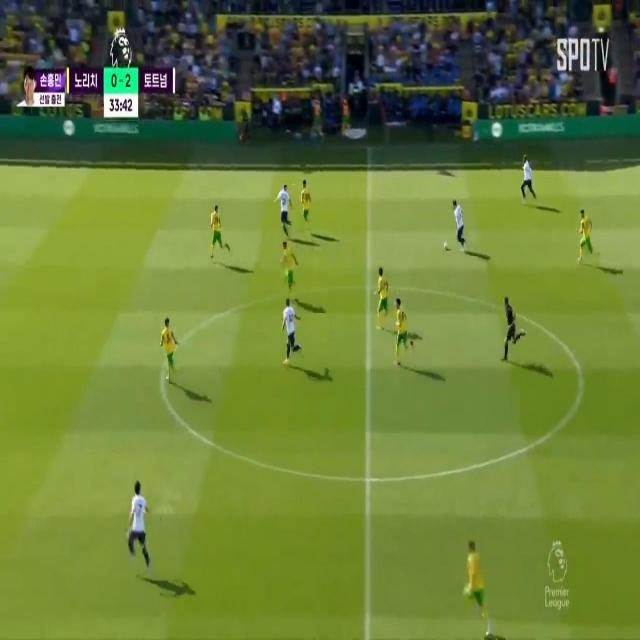ball: (438, 237, 452, 257)
player: (461, 540, 488, 635), (128, 481, 150, 559), (158, 311, 178, 385), (280, 296, 300, 368), (574, 205, 596, 267), (394, 295, 411, 369), (280, 235, 296, 296), (518, 156, 538, 204), (377, 260, 391, 328), (452, 198, 469, 253), (209, 202, 226, 254), (278, 179, 292, 239), (300, 174, 314, 230)
referee: (502, 291, 526, 359)
